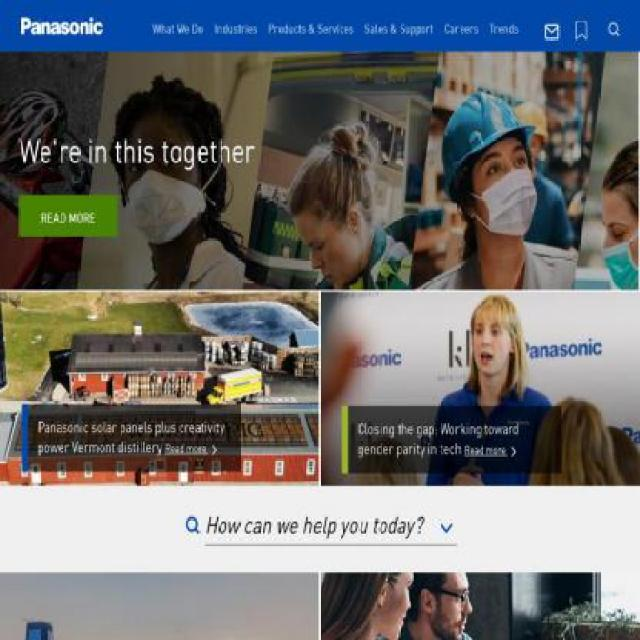button: (263, 0, 358, 52), (15, 0, 107, 52), (19, 195, 118, 237), (359, 0, 438, 52), (148, 0, 208, 52), (209, 0, 262, 52), (440, 0, 483, 52), (484, 0, 523, 52), (464, 439, 524, 461), (164, 438, 224, 459), (604, 0, 624, 52), (542, 20, 563, 52), (435, 514, 457, 541)
field: (205, 510, 457, 544)
